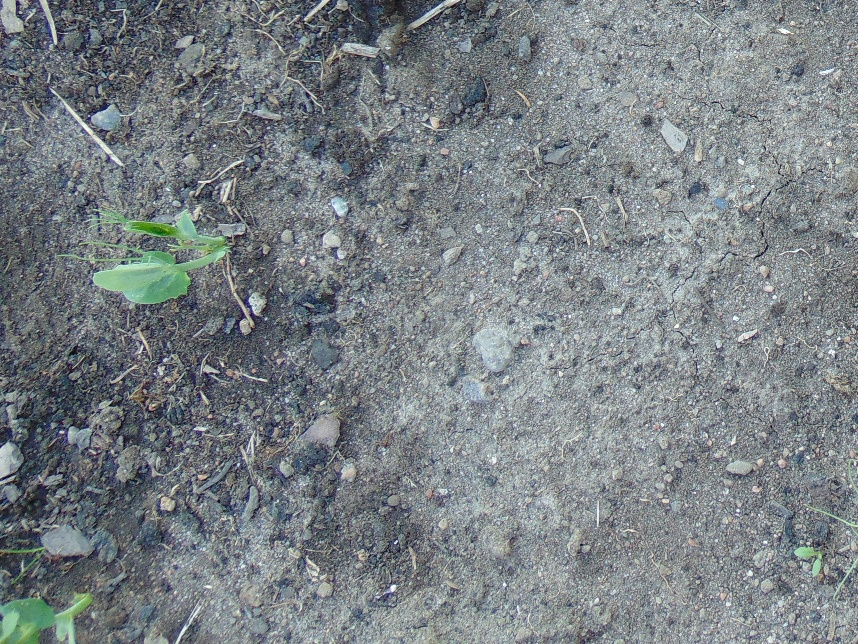crop: (84, 211, 234, 302), (1, 589, 97, 644)
